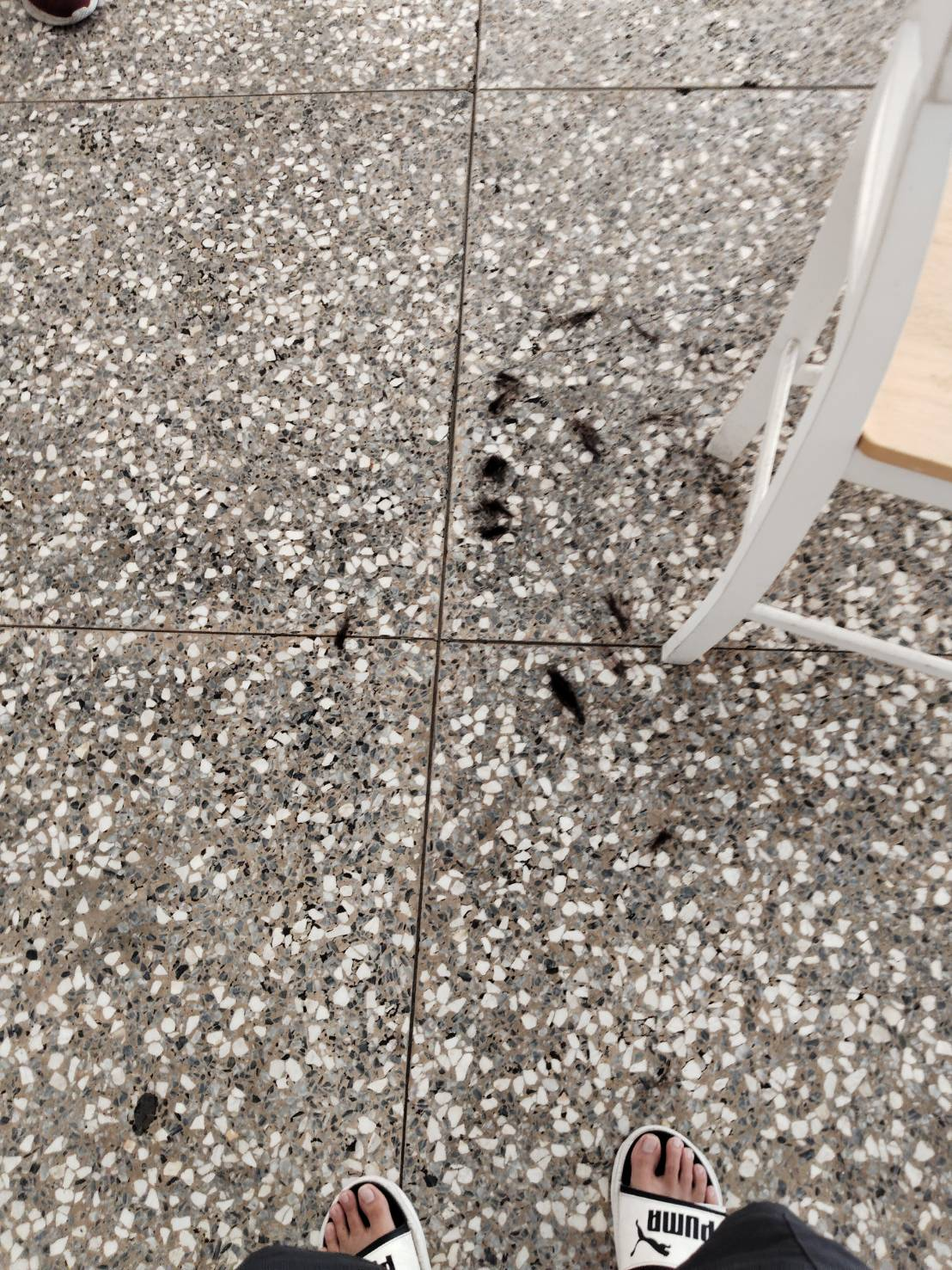General waste: (324, 272, 768, 960), (92, 1046, 189, 1141)
